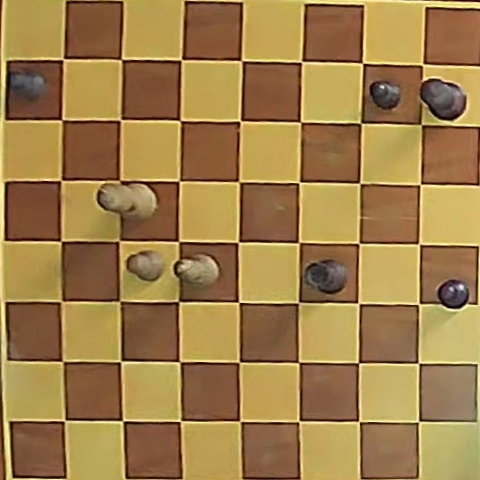black-king: (419, 79, 466, 121)
black-pawn: (10, 70, 47, 101), (437, 279, 469, 309), (370, 81, 402, 109)
black-rook: (304, 260, 347, 294)
white-bishop: (174, 253, 220, 287)
white-king: (99, 182, 157, 219)
white-pawn: (126, 250, 165, 281)
